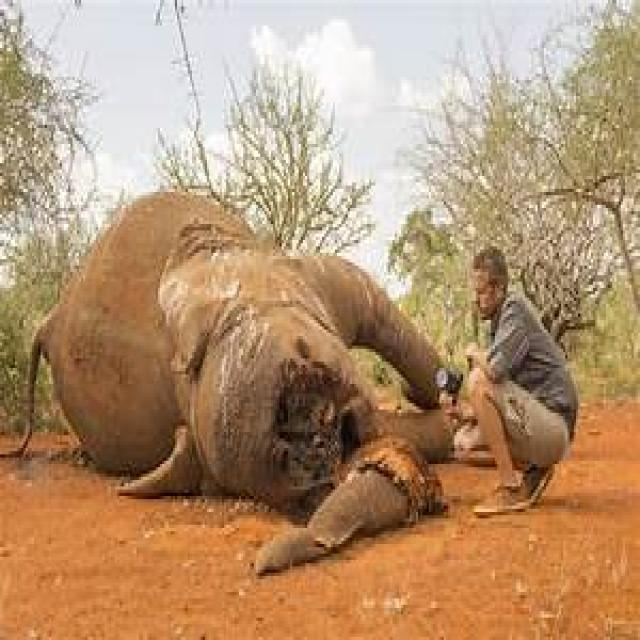elephant: (36, 192, 459, 576)
